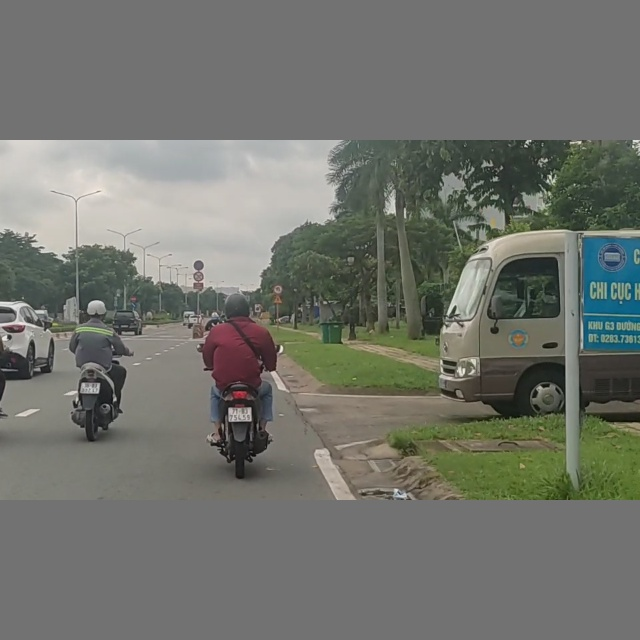P.102: (130, 295, 138, 302)
P.111: (193, 272, 204, 281)
P.124a*: (273, 285, 284, 294)
P.130: (193, 260, 204, 270)
R.302a: (131, 303, 137, 308)
W.224: (273, 295, 283, 305)
